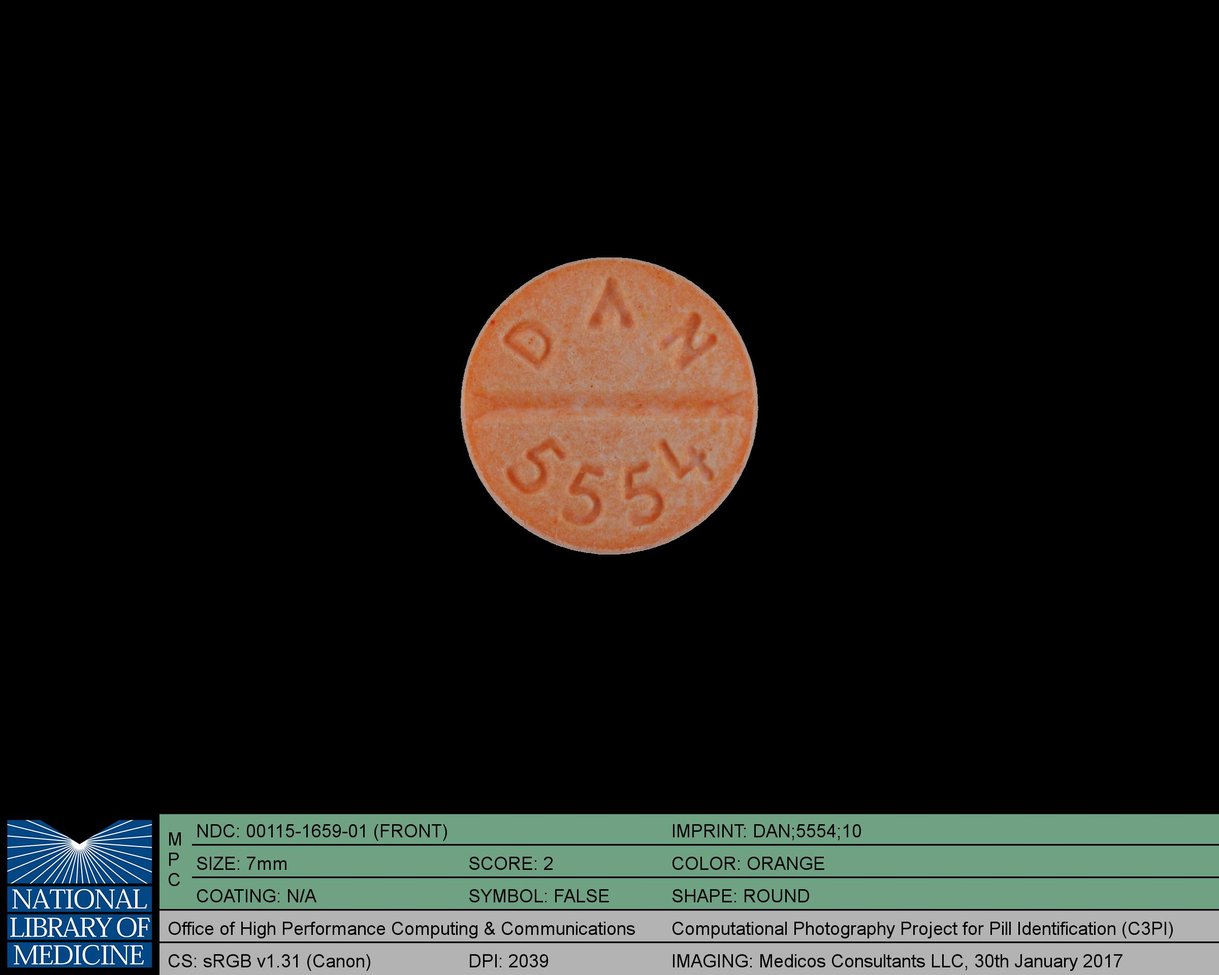Pill: (449, 245, 770, 564)
